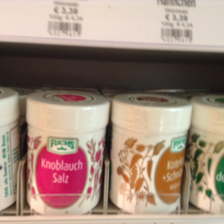spices: (25, 90, 109, 216), (110, 93, 192, 214)
